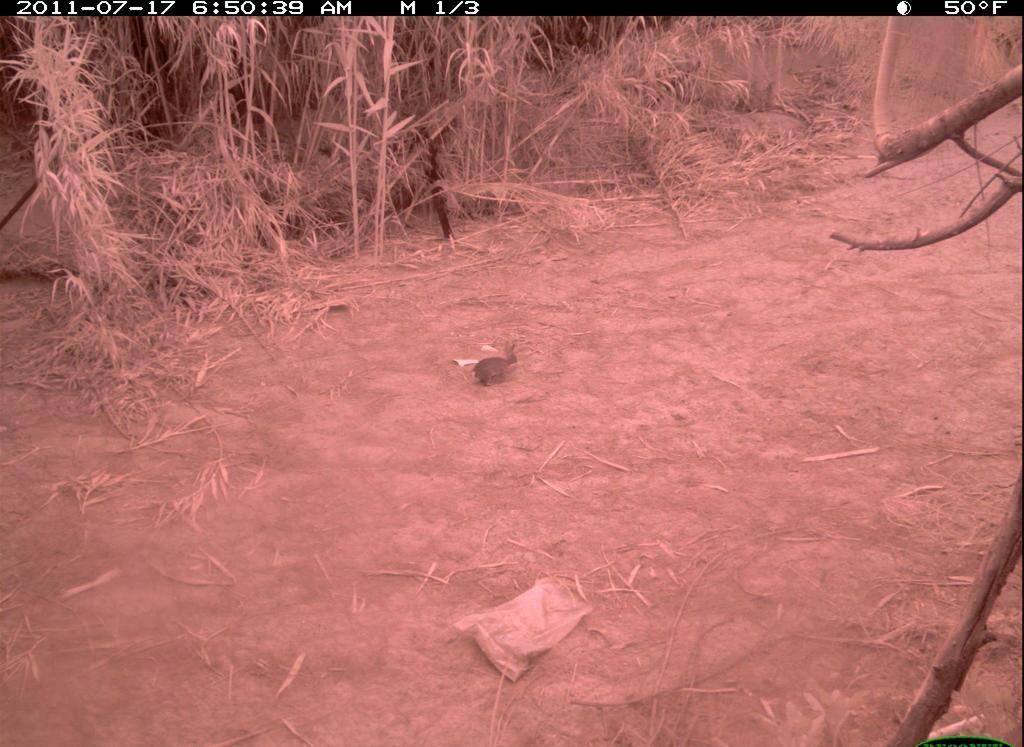rabbit: (468, 328, 530, 396)
